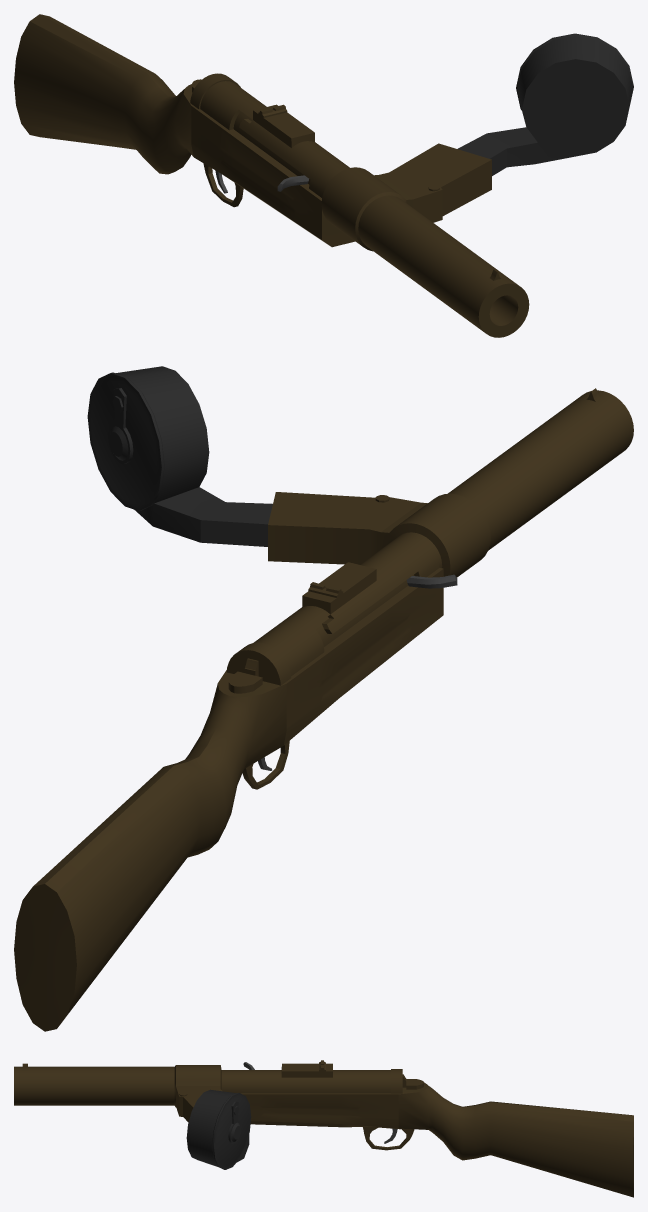
3 views of the same model, one above another, from view 1: azimuth 30°, elevation 25°; view 2: azimuth 150°, elevation 25°; view 3: azimuth 270°, elevation 25° (orthographic). The views are drawn at different scales.
Visible parts, largest first — view 1: BodyWeapon, Magazine; view 2: BodyWeapon, Magazine; view 3: BodyWeapon, Magazine.
Boxes of the visible parts, x1,y1,x2,y2 form: BodyWeapon: (14,14,529,337); Magazine: (458,33,633,175); BodyWeapon: (14,388,633,1031); Magazine: (87,366,272,546); BodyWeapon: (14,1060,633,1197); Magazine: (186,1089,251,1169).
Size of the model in its own units: 109 by 83.98 by 265.
